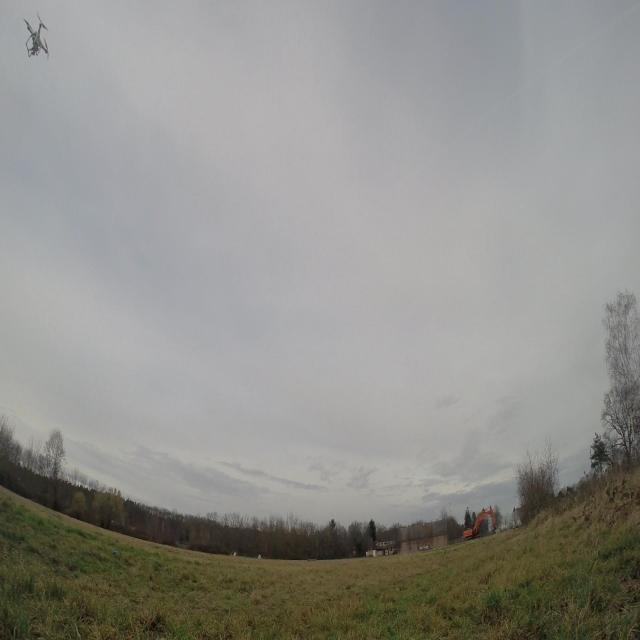drone: (21, 7, 52, 63)
